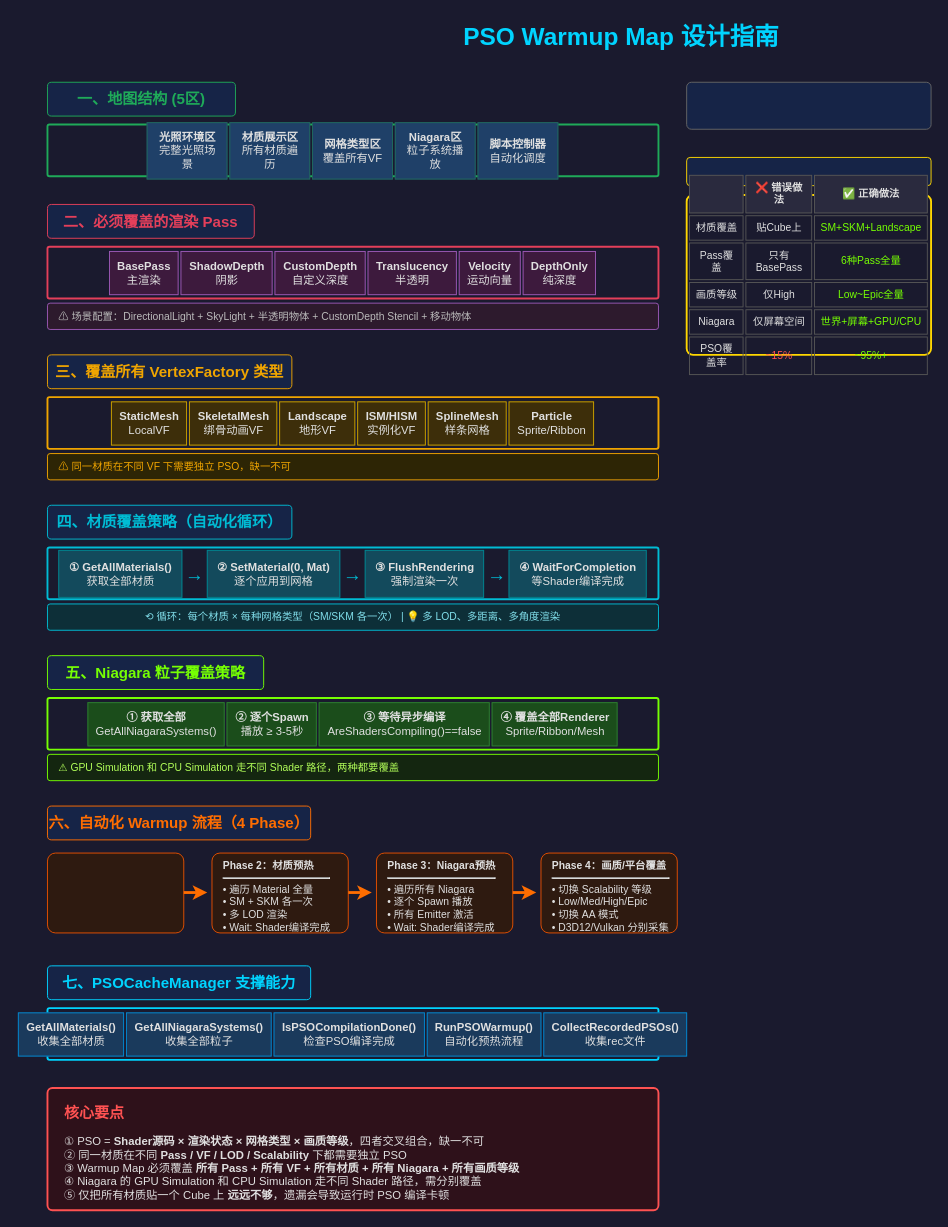
Image size: 948x1227. Some labels were removed from this diagram. The shapes that lost their labels are listed below. From the top down, each one's centre as x and y in pixels, then its label:
the point at 808,105: 图例 🟢 结构 🔴 渲染Pass 🟡 VertexFactory 🔵 材质流程 🟢 Niagara 🟠 自动化 🔷 支撑能力
the point at 808,171: 工作量对比
the point at 115,892: Phase 1：光照预热 • 加载光照场景 • 相机 360° 环绕 • 触发所有 Pass
